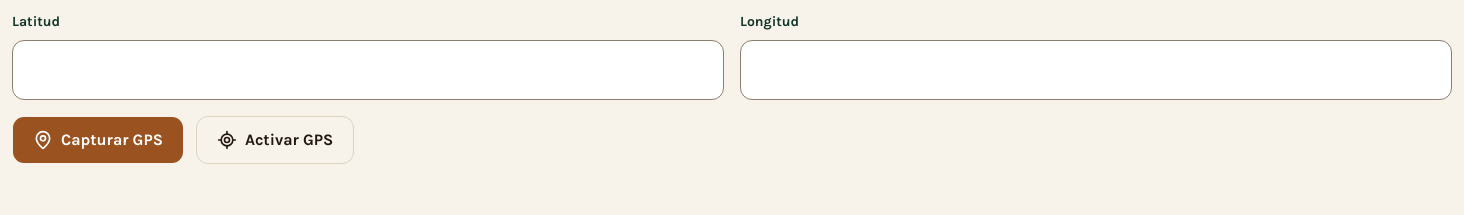
farm location capture › GPS precision › tells the precision of the captured point
The width and height of the screenshot is (1464, 215).
Click the button "Capturar GPS" at (98, 140), box [12,116,184,164]
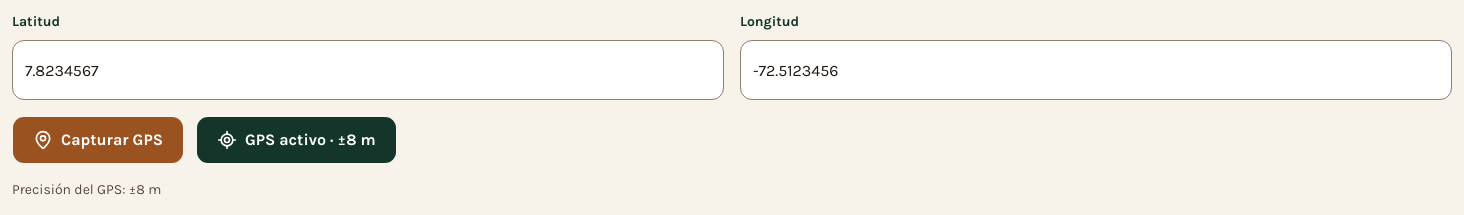
expect the message reads "Precisión del GPS: ±8 m": met, box [12,181,161,198]
